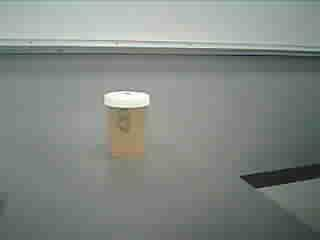Bottle B: (95, 85, 164, 165)
